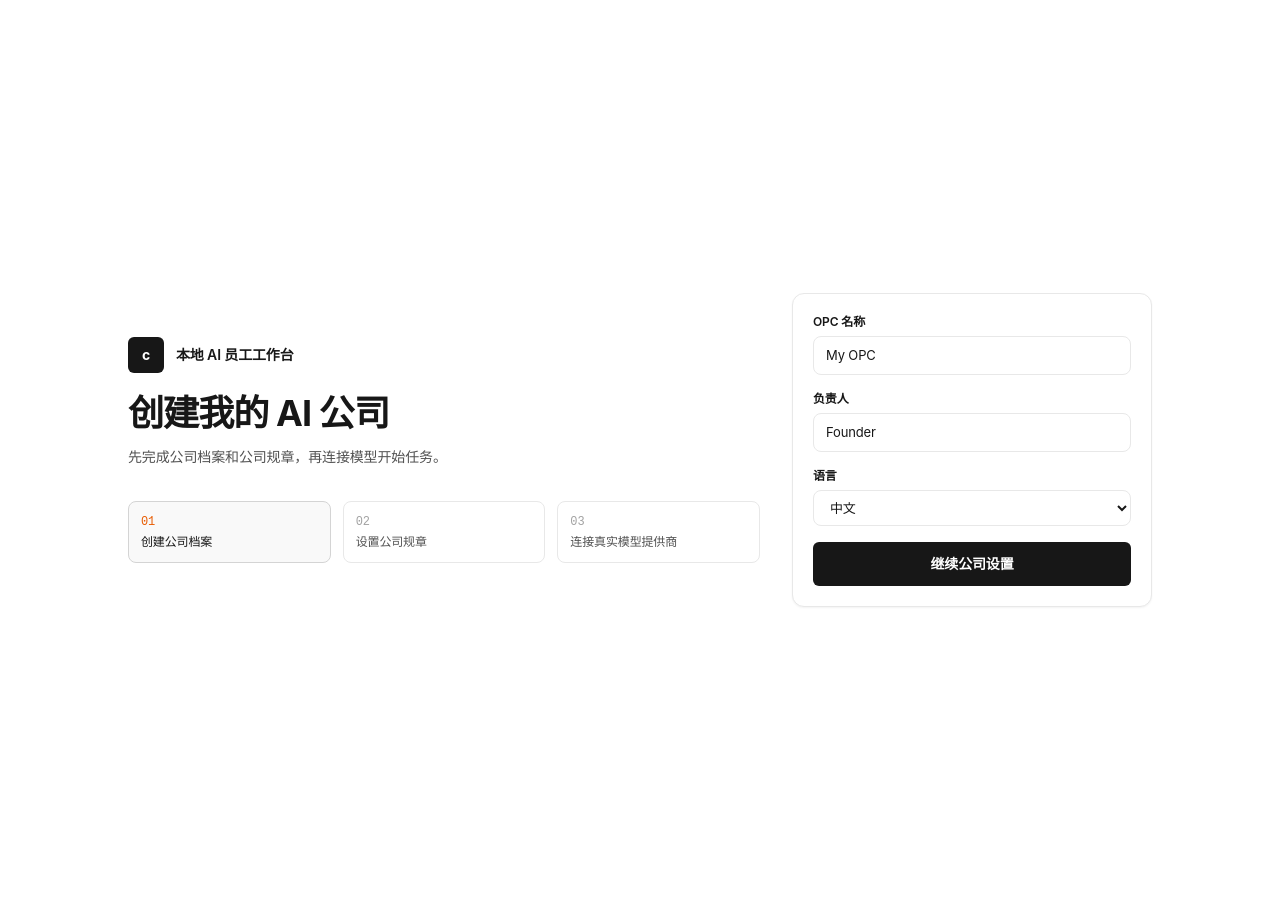
Test: Desktop onboarding › FirstRun keeps the detected language after entering company setup
This screenshot has width=1280, height=900.
Click the button "继续公司设置".
click(972, 564)  # box x1=813 y1=542 x2=1131 y2=586
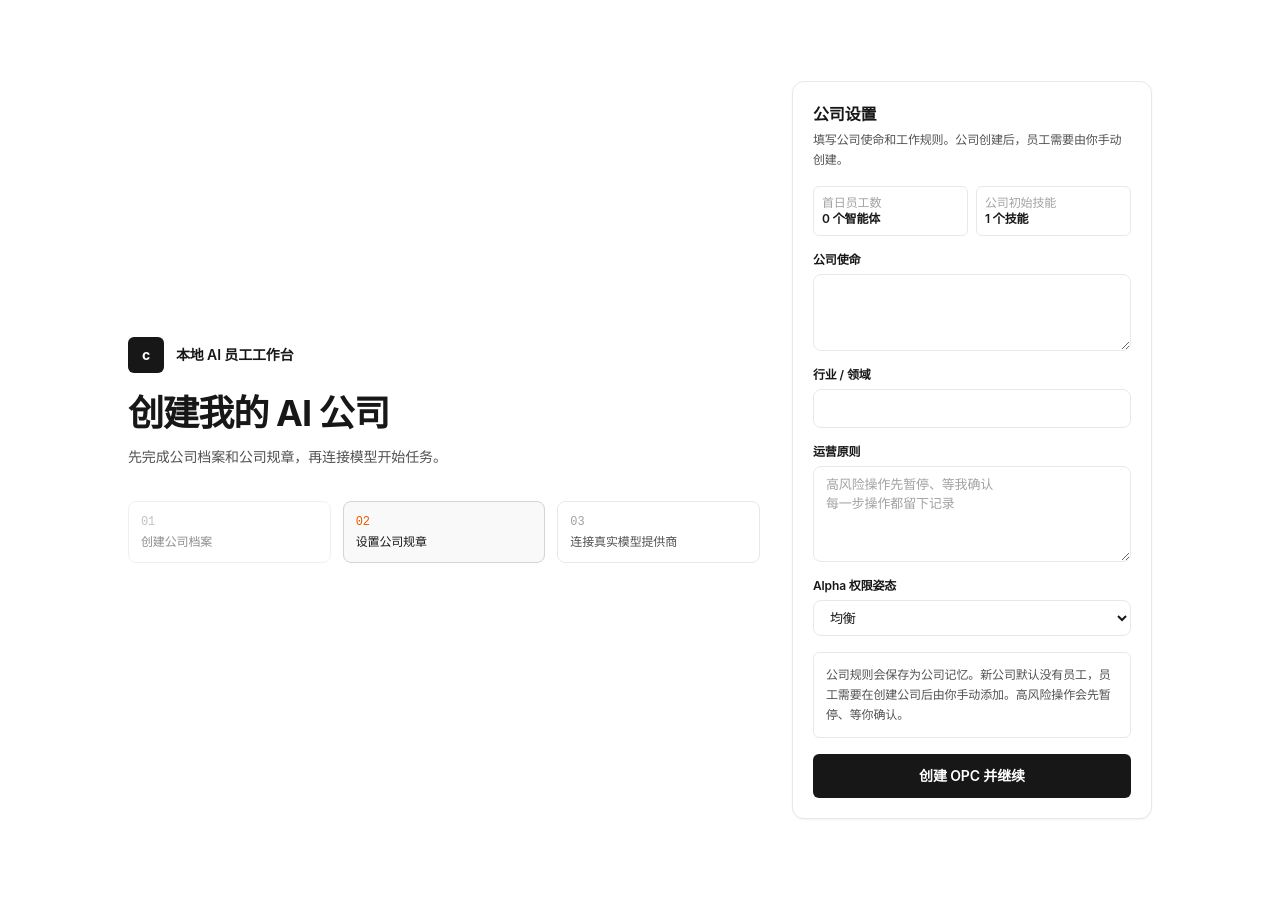
Expected: the heading "公司设置" is shown, x1=813 y1=104 x2=876 y2=124
Now the button "创建 OPC 并继续" is shown, box x1=813 y1=754 x2=1131 y2=798
